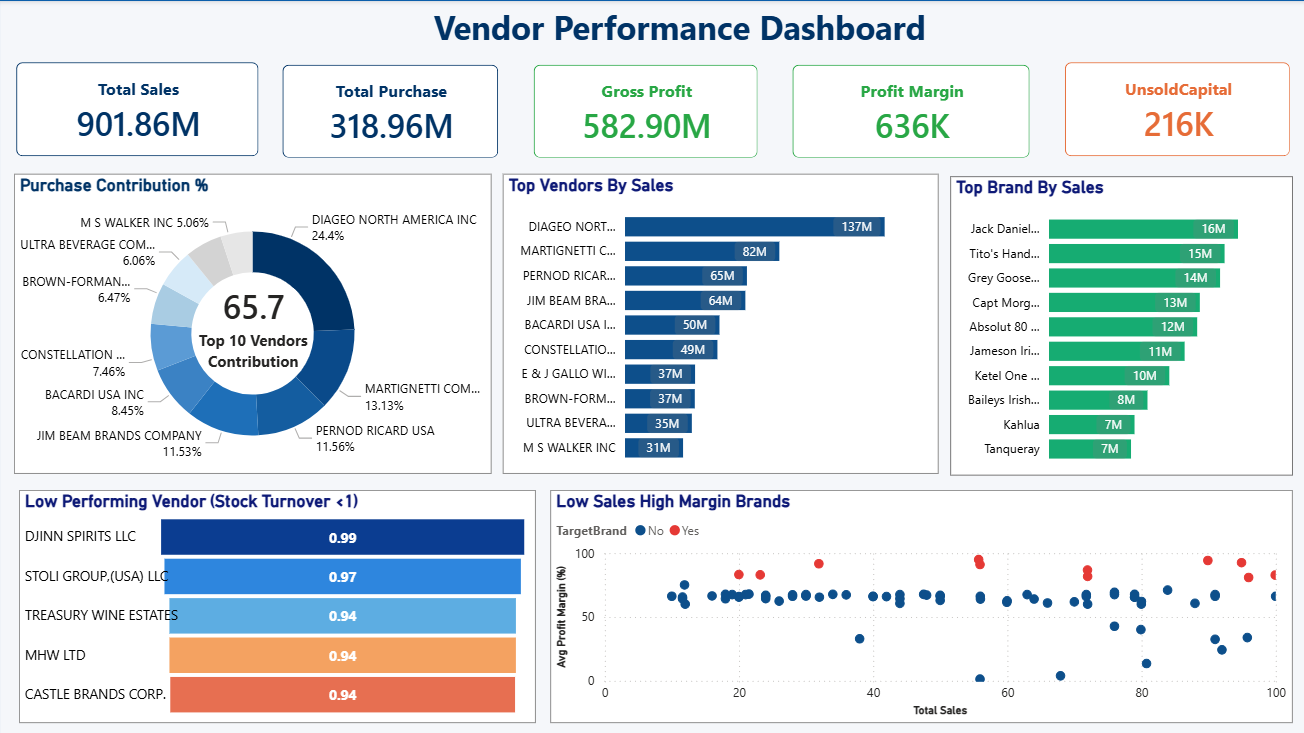

What the dashboard file says about the page in this screenshot:
{"tool":"powerbi","page":{"name":"Page 1","canvas":[1280,720],"ordinal":0},"visuals":[{"type":"shape","box":[0,0,1280.3,720.2],"z":0},{"type":"textbox","box":[360.3,0,610.4,75.9],"z":1000},{"type":"cardVisual","fields":{"Data":["Measure.Total Sales"]},"box":[0,44.1,271.9,126.4],"z":2000},{"type":"cardVisual","fields":{"Data":["Measure.Total Purchase"]},"box":[260.5,46.2,245.6,125.1],"z":3000},{"type":"cardVisual","fields":{"Data":["Measure.Gross Profit"]},"box":[506.2,46.2,253.1,125.1],"z":4000},{"type":"cardVisual","fields":{"Data":["Measure.Profit Margin"]},"box":[759.2,46.2,266.5,125.1],"z":5000},{"type":"cardVisual","fields":{"Data":["Measure.UnsoldCapital"]},"box":[1026,44.1,254.3,126.4],"z":6000},{"type":"donutChart","title":" Purchase Contribution % ","fields":{"Category":["PurchaseContribution.VendorName"],"Y":["Sum(PurchaseContribution.PurchaseContribution%)"]},"box":[14.7,170.5,467.4,294],"z":7000},{"type":"cardVisual","fields":{"Data":["Measure.TopVendorContribution"]},"box":[173.5,263.1,151.4,70.6],"z":8000},{"type":"textbox","box":[136.7,317.5,223.4,66.1],"z":9000},{"type":"barChart","title":"Top Vendors By Sales","fields":{"Category":["vendor_sales_summary.VendorName"],"Y":["Measure.Total Sales"]},"box":[492.4,170.5,426.3,294],"z":10000},{"type":"barChart","title":"Top Brand By Sales","fields":{"Category":["vendor_sales_summary.Description"],"Y":["Measure.Total Sales"]},"box":[930.5,172,335.1,292.5],"z":11000},{"type":"funnel","title":"Low Performing Vendor (Stock Turnover <1)","fields":{"Category":["LowTurnoverVendor.VendorName"],"Y":["Sum(LowTurnoverVendor.AvgStockTurnOver)"]},"box":[19.1,479.2,505.7,227.8],"z":12000},{"type":"scatterChart","title":"Low Sales High Margin Brands","fields":{"X":["Sum(BrandPerformance.TotalSales)"],"Y":["Sum(BrandPerformance.AvgProfitMargin)"],"Series":["BrandPerformance.TargetBrand"],"Category":["BrandPerformance.Description"]},"box":[539.5,479.2,726.1,227.8],"z":13000}]}

Visuals, with their boxes in screenshot pixels (x1, y1, x2, y2), scaled from the page's 1280x720 canvas onto the 1304x733 screenshot:
shape: l=0, t=0, r=1303, b=732
textbox: l=367, t=0, r=989, b=77
cardVisual - Measure.Total Sales: l=0, t=45, r=277, b=174
cardVisual - Measure.Total Purchase: l=265, t=47, r=516, b=174
cardVisual - Measure.Gross Profit: l=516, t=47, r=774, b=174
cardVisual - Measure.Profit Margin: l=773, t=47, r=1045, b=174
cardVisual - Measure.UnsoldCapital: l=1045, t=45, r=1303, b=174
" Purchase Contribution % " donutChart: l=15, t=174, r=491, b=473
cardVisual - Measure.TopVendorContribution: l=177, t=268, r=331, b=340
textbox: l=139, t=323, r=367, b=391
"Top Vendors By Sales" barChart: l=502, t=174, r=936, b=473
"Top Brand By Sales" barChart: l=948, t=175, r=1289, b=473
"Low Performing Vendor (Stock Turnover <1)" funnel: l=19, t=488, r=535, b=720
"Low Sales High Margin Brands" scatterChart: l=550, t=488, r=1289, b=720
